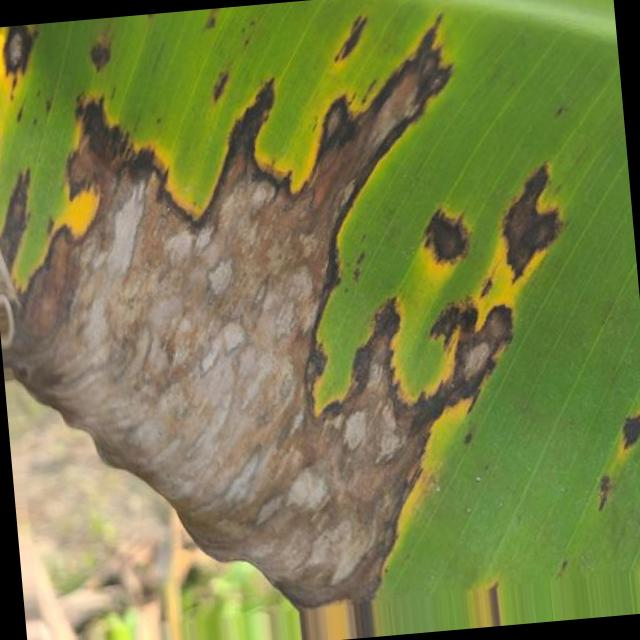Banana_Black_Sigatoka: (0, 3, 587, 591)
